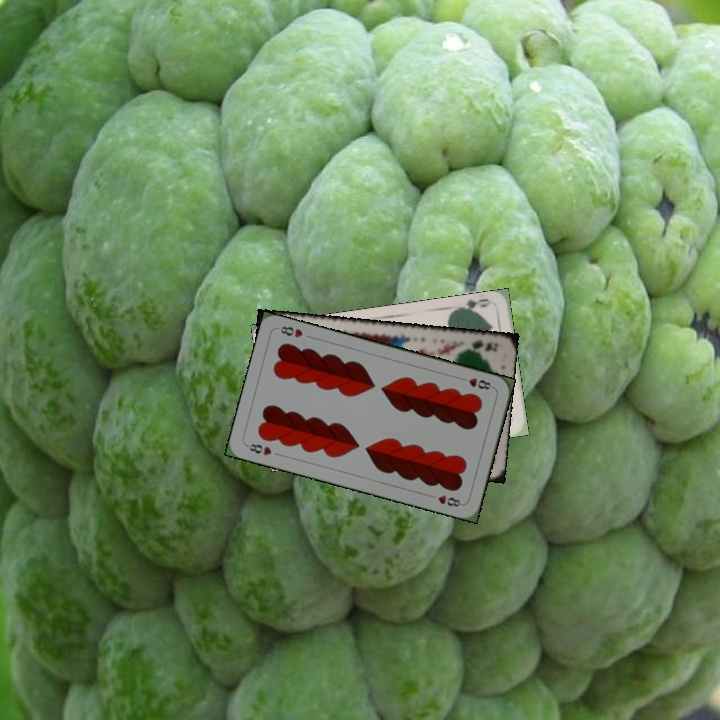GK: (459, 336, 501, 355)
GO: (454, 295, 494, 316)
H8: (456, 373, 496, 392), (243, 439, 274, 458)
